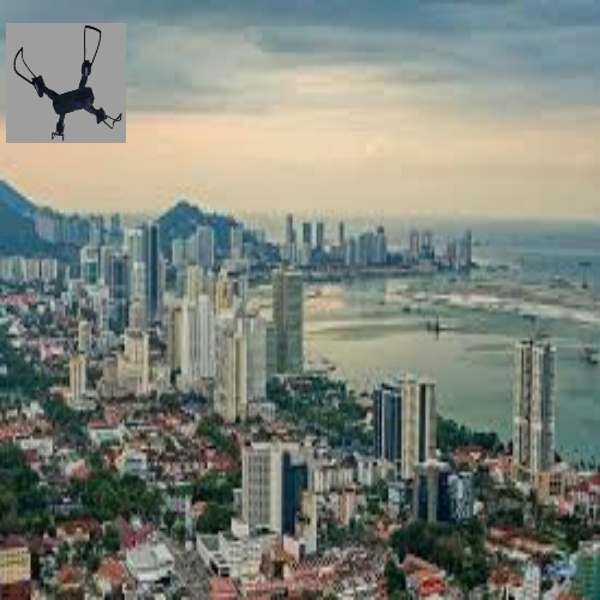drone: (11, 28, 124, 143)
